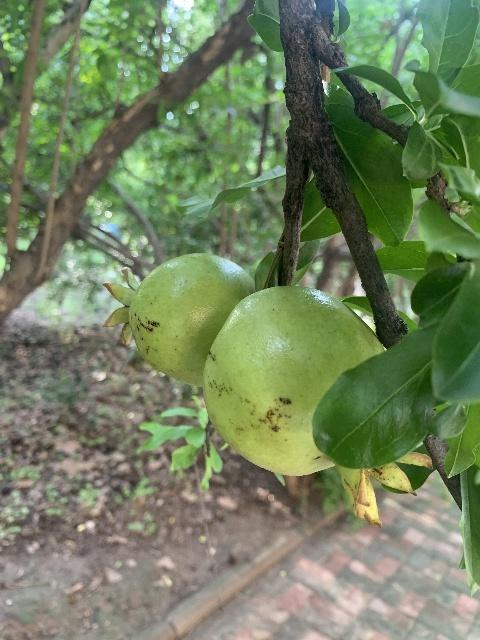mid-growth: (203, 284, 430, 529), (102, 253, 255, 383)
